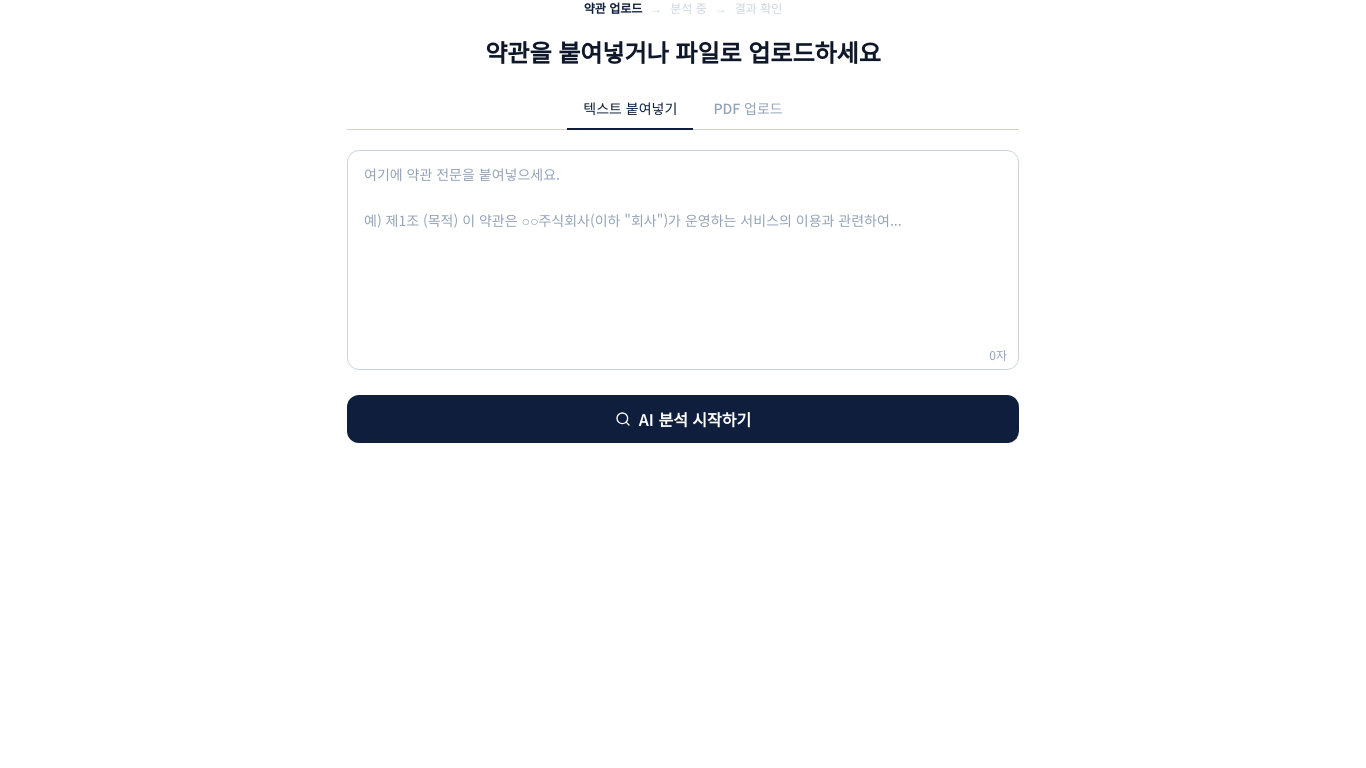
Test: ContractAnalyzer 전체 흐름 › 로그인하지 않은 사용자에게는 결과 하단에 저장 유도 배너가 보인다
The image size is (1366, 768).
Step 1. Type "계약서 조항 예시 텍스트를 충분히 길게 입력합니다." into the text box named "분석할 계약서 전문 입력" → (683, 260), box [347, 150, 1019, 370]
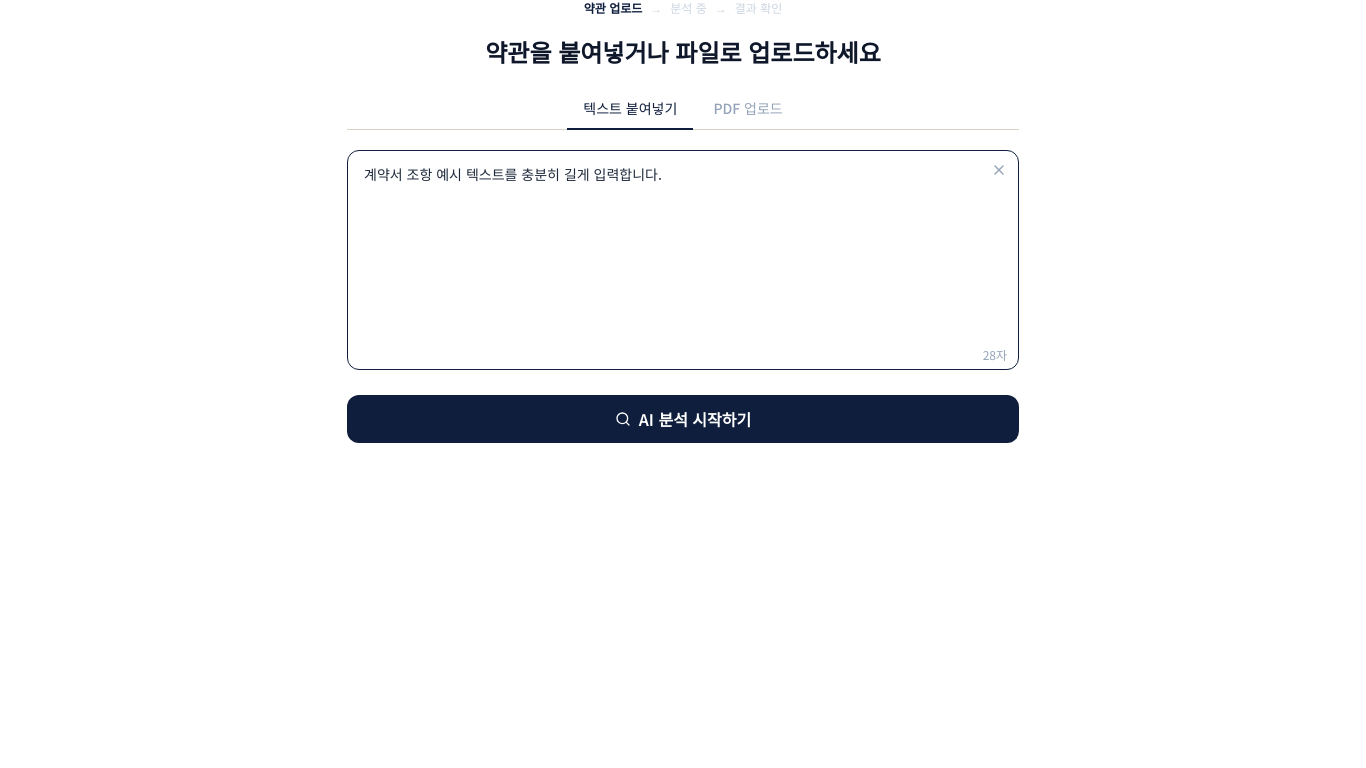
Step 2. Click the button with aria-label "계약서 전체 분석 시작" → (683, 419), box [347, 395, 1019, 443]
(page scrolled)
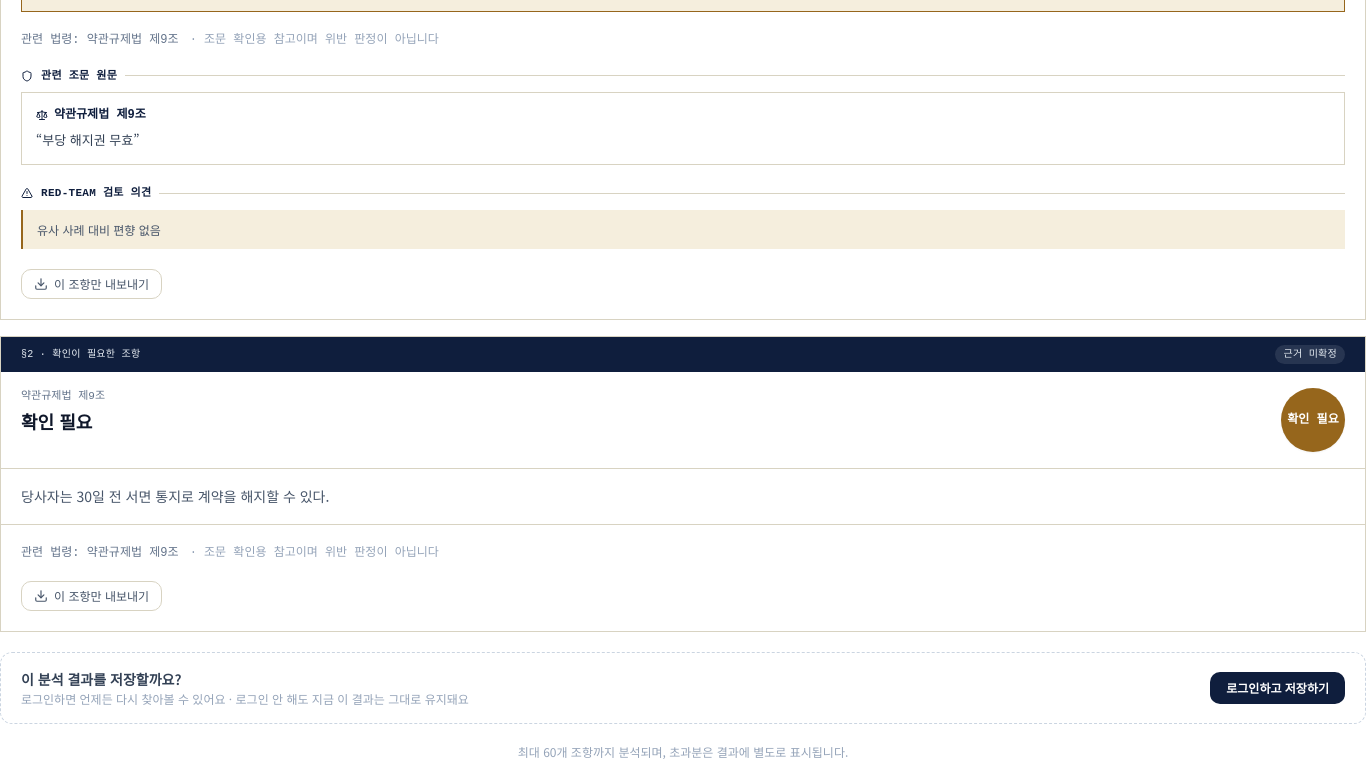
Check: the text "이 분석 결과를 저장할까요?" is shown, box [21, 669, 182, 689]
